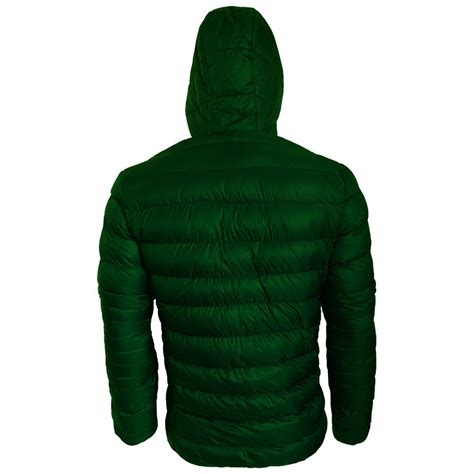nylon: (97, 5, 377, 467)
